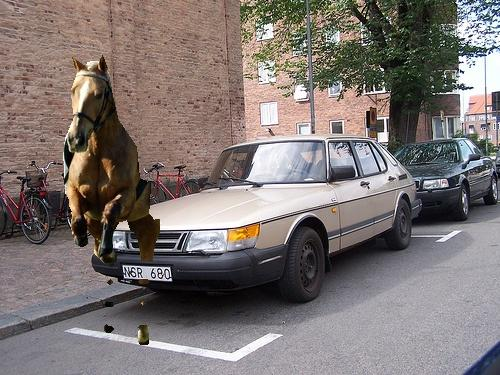tampered: (64, 56, 160, 345)
